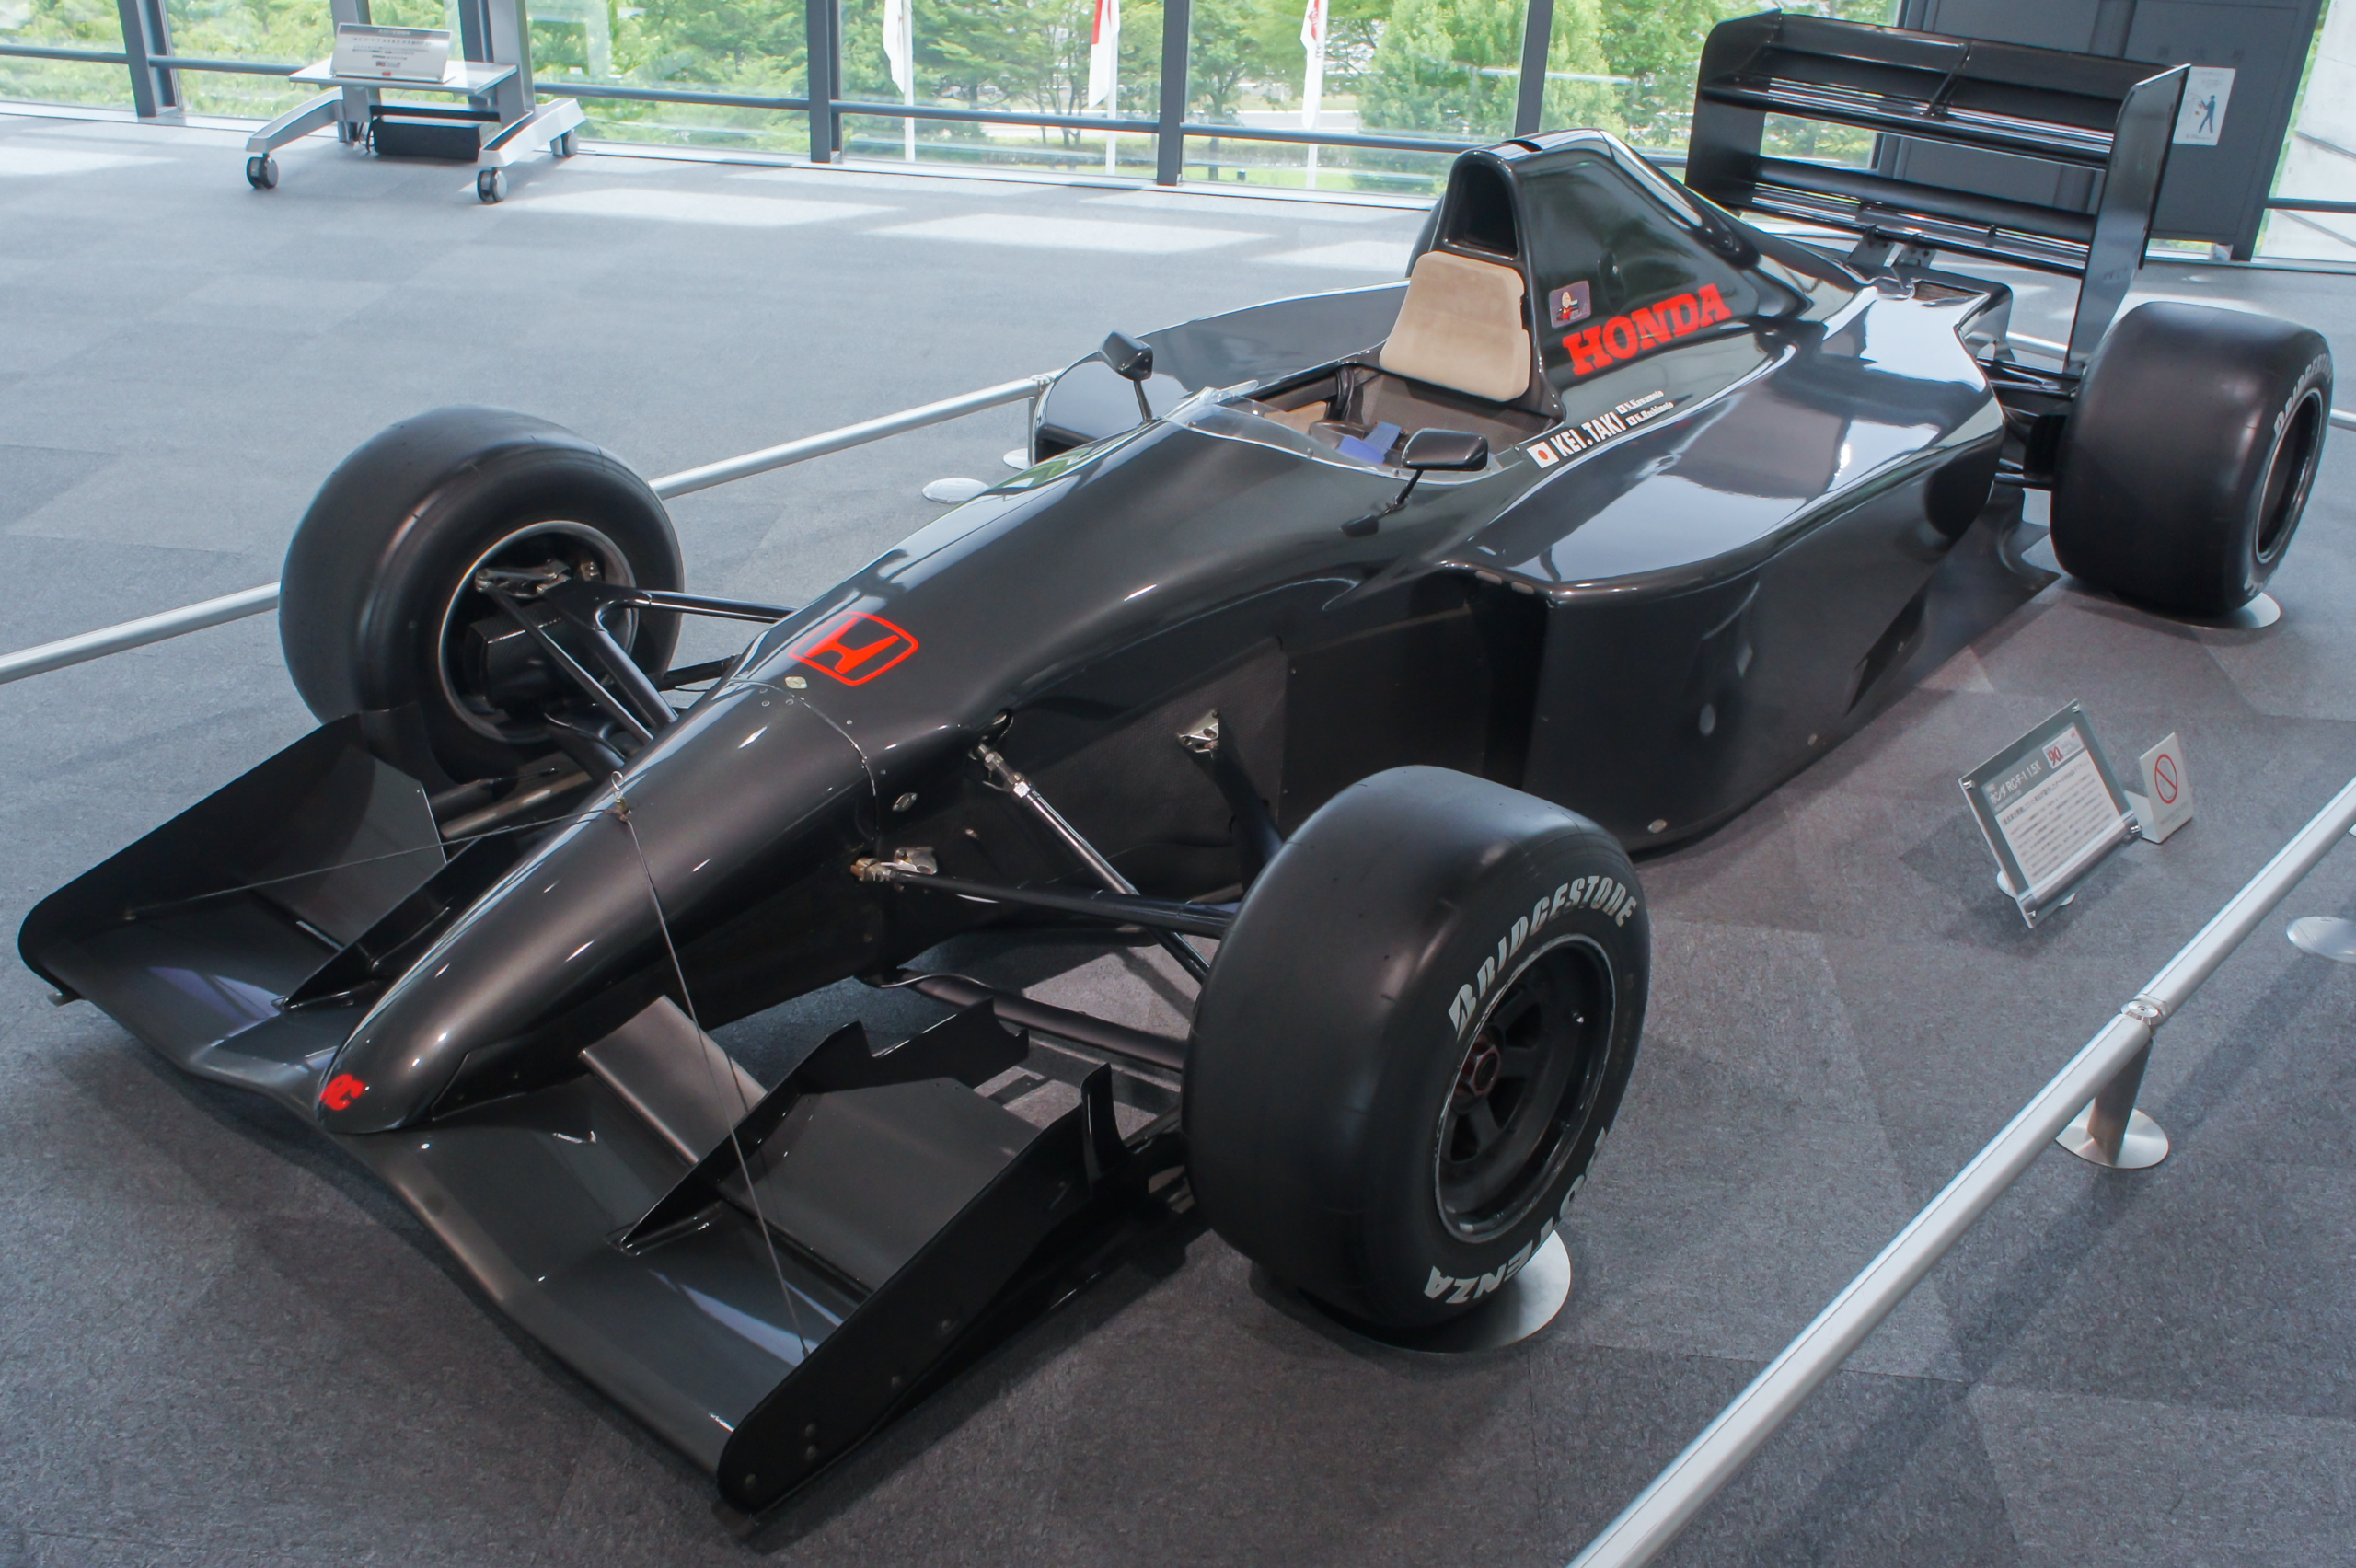f1_car: (2, 14, 2342, 1556)
